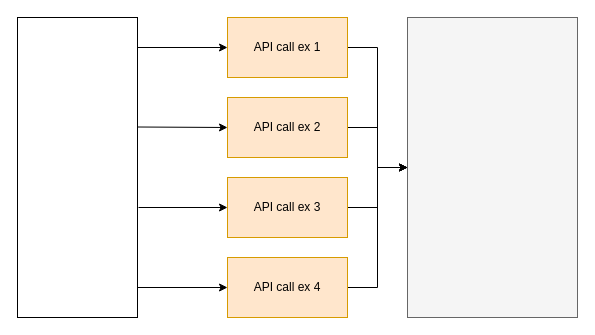
Image size: 595x335. Some labels were removed from this diagram. Each missing label, with the box of its shape:
Backend: (406, 16, 578, 318)
Frontend: (16, 16, 138, 318)
